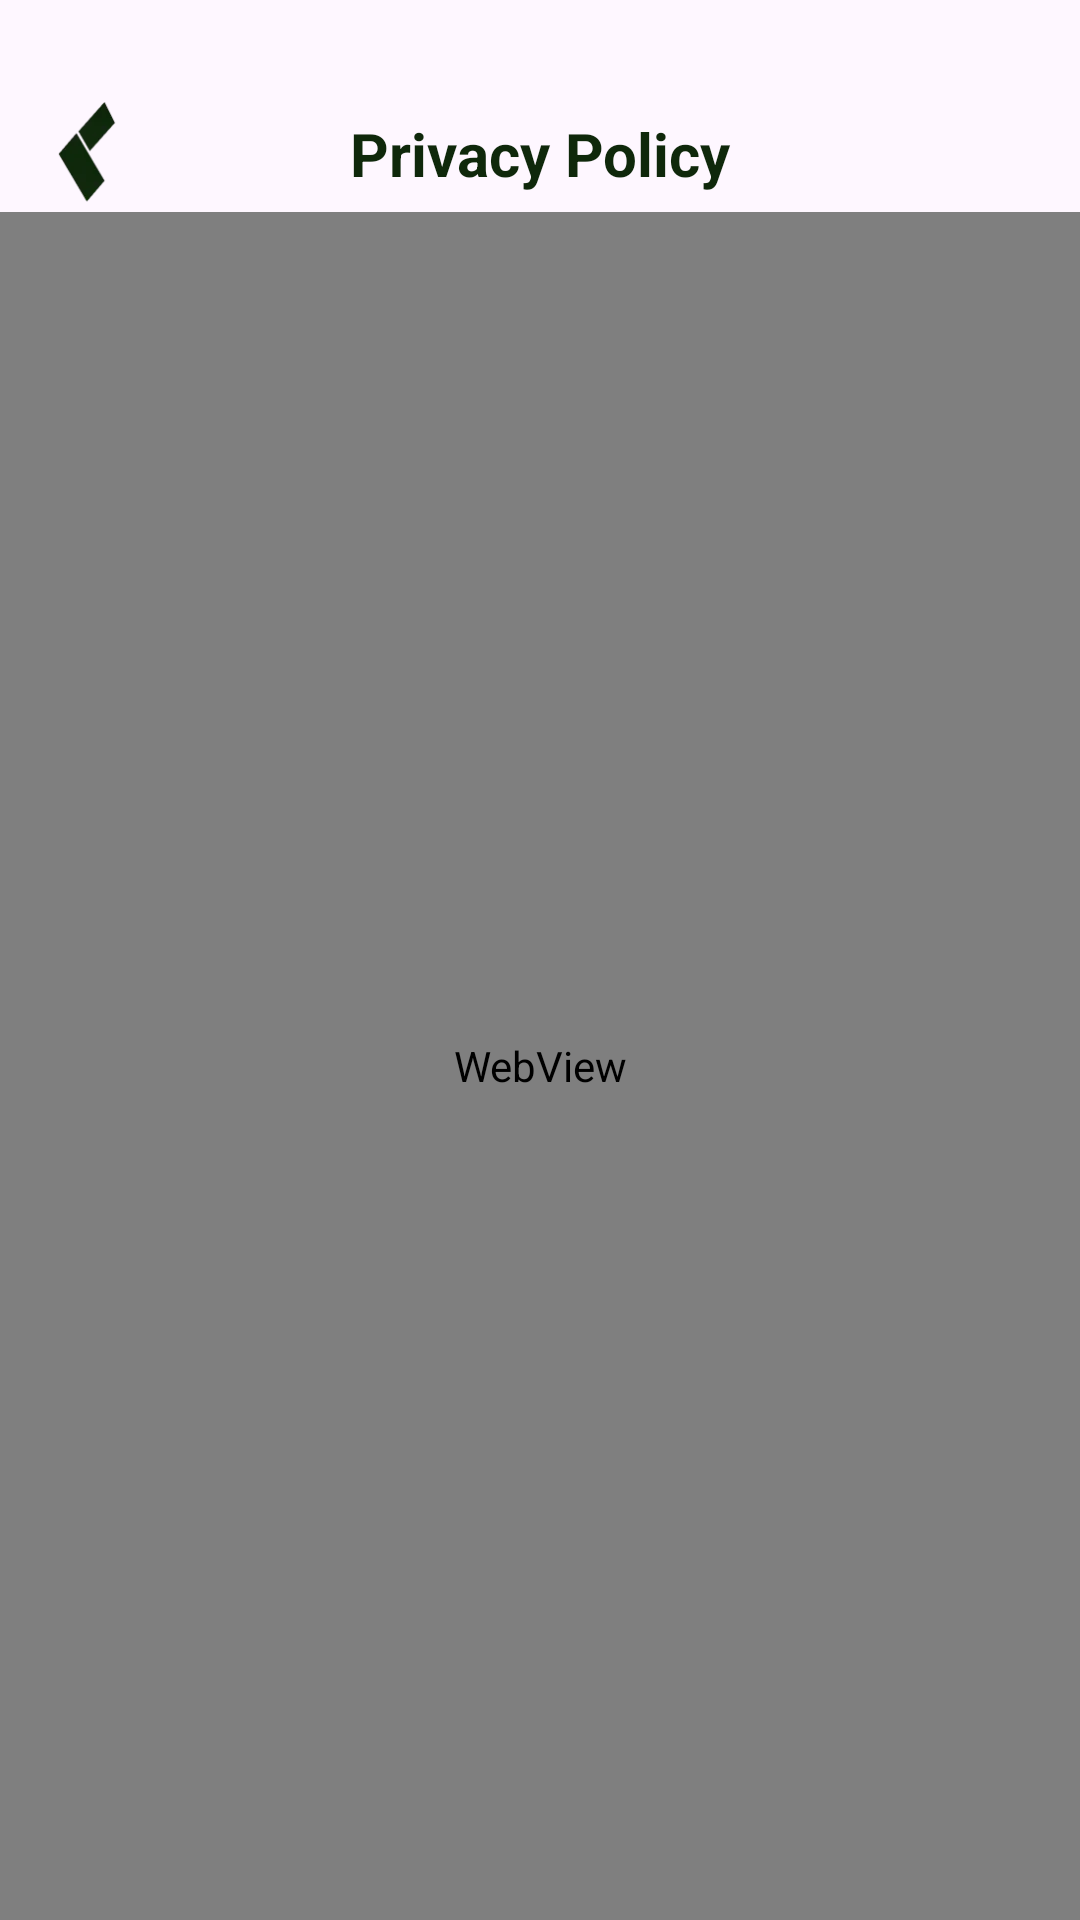

Point at icon controls on the screen. Image size 1080*1920, points as (x=x, y=y).
back: (x=87, y=152)
